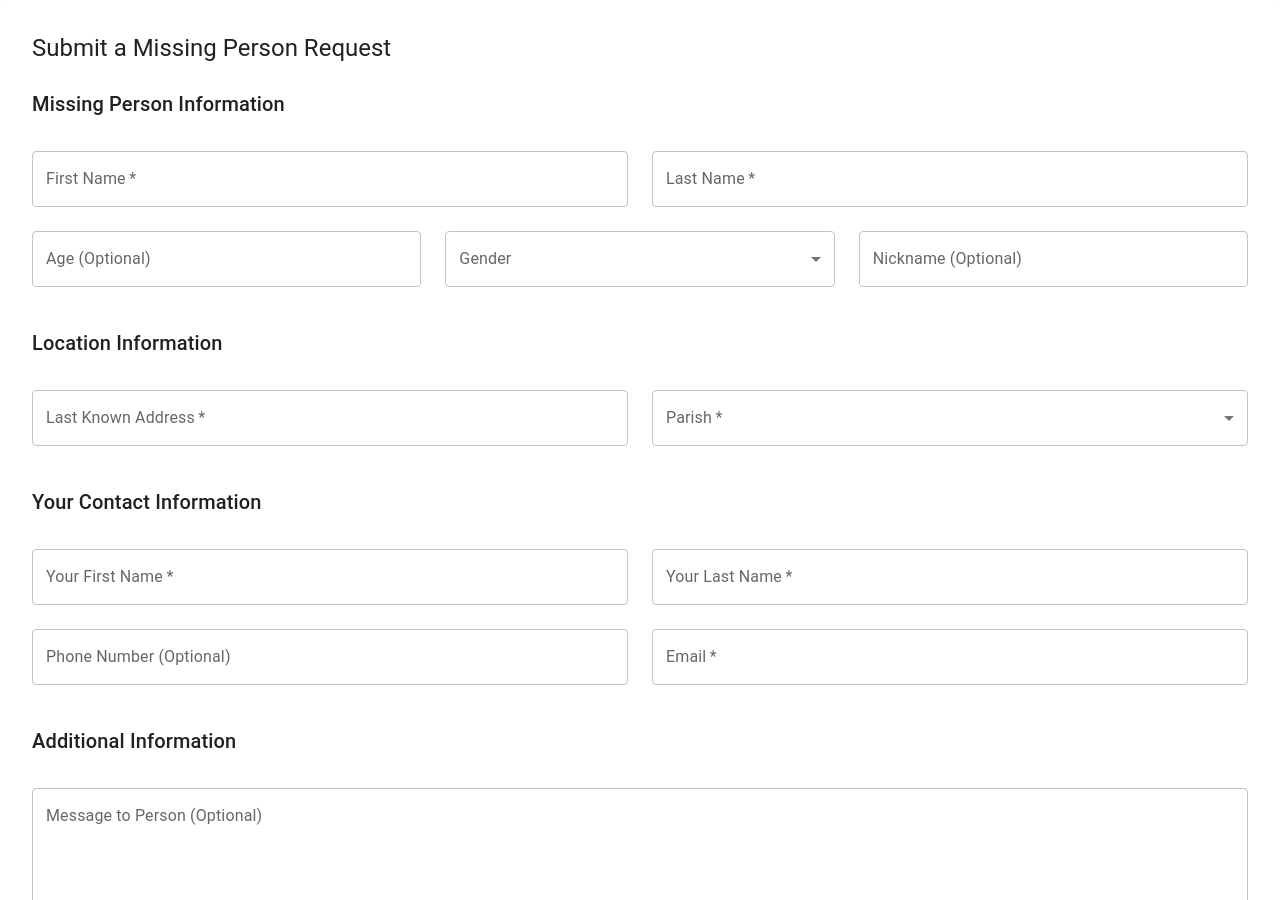
Scenario: RequestForm › allows selecting gender from dropdown
The width and height of the screenshot is (1280, 900).
Note: Click on gender dropdown
Click the dropdown named "gender" next to "Gender": coordinates (640, 259) x1=445 y1=231 x2=835 y2=287
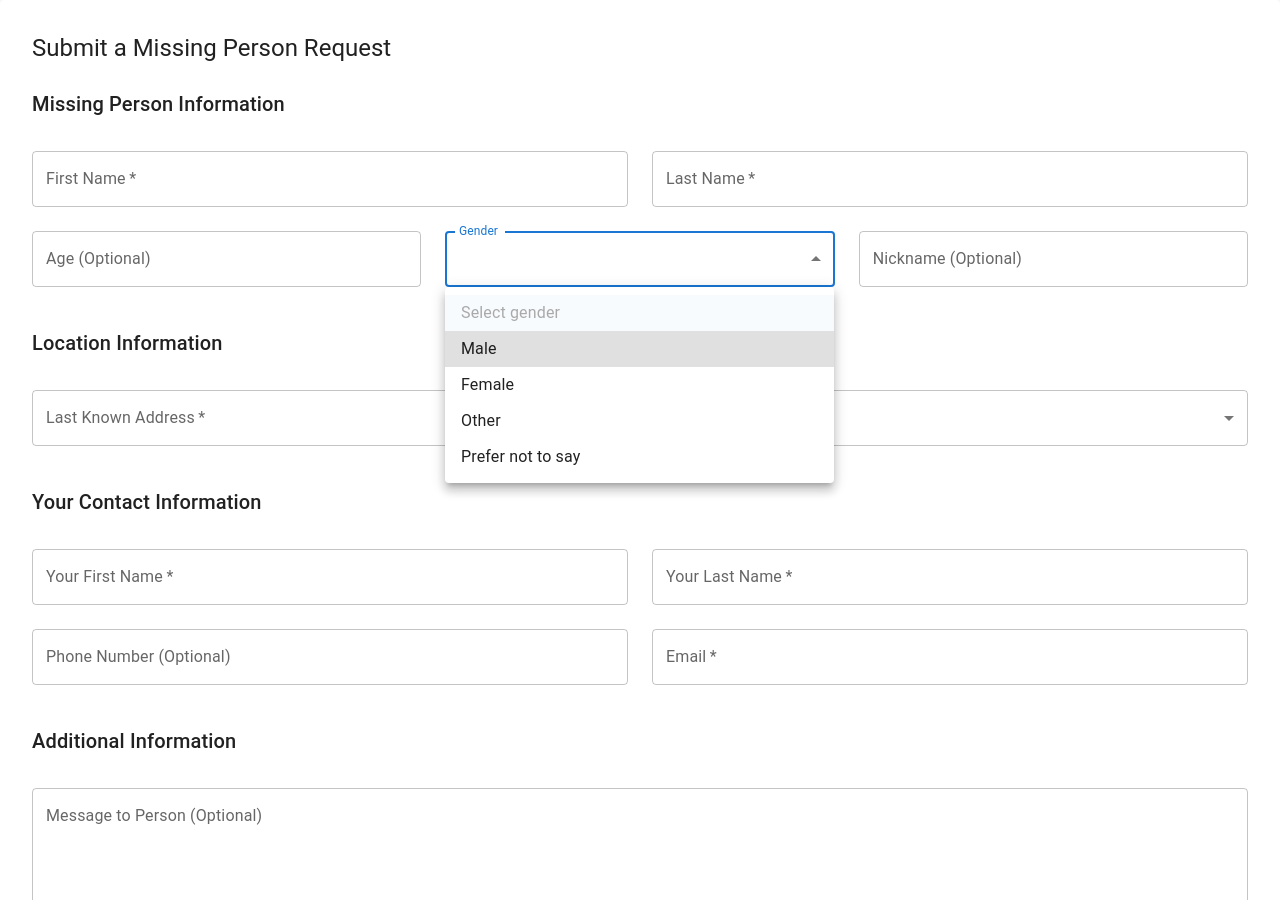
Now the option "Male" is shown
Now the option "Female" is shown, box x1=461 y1=375 x2=514 y2=394
Now the option "Other" is shown, box x1=461 y1=411 x2=501 y2=430
Note: Select a gender option
Click the option "Male": coordinates (479, 348) x1=445 y1=331 x2=834 y2=367
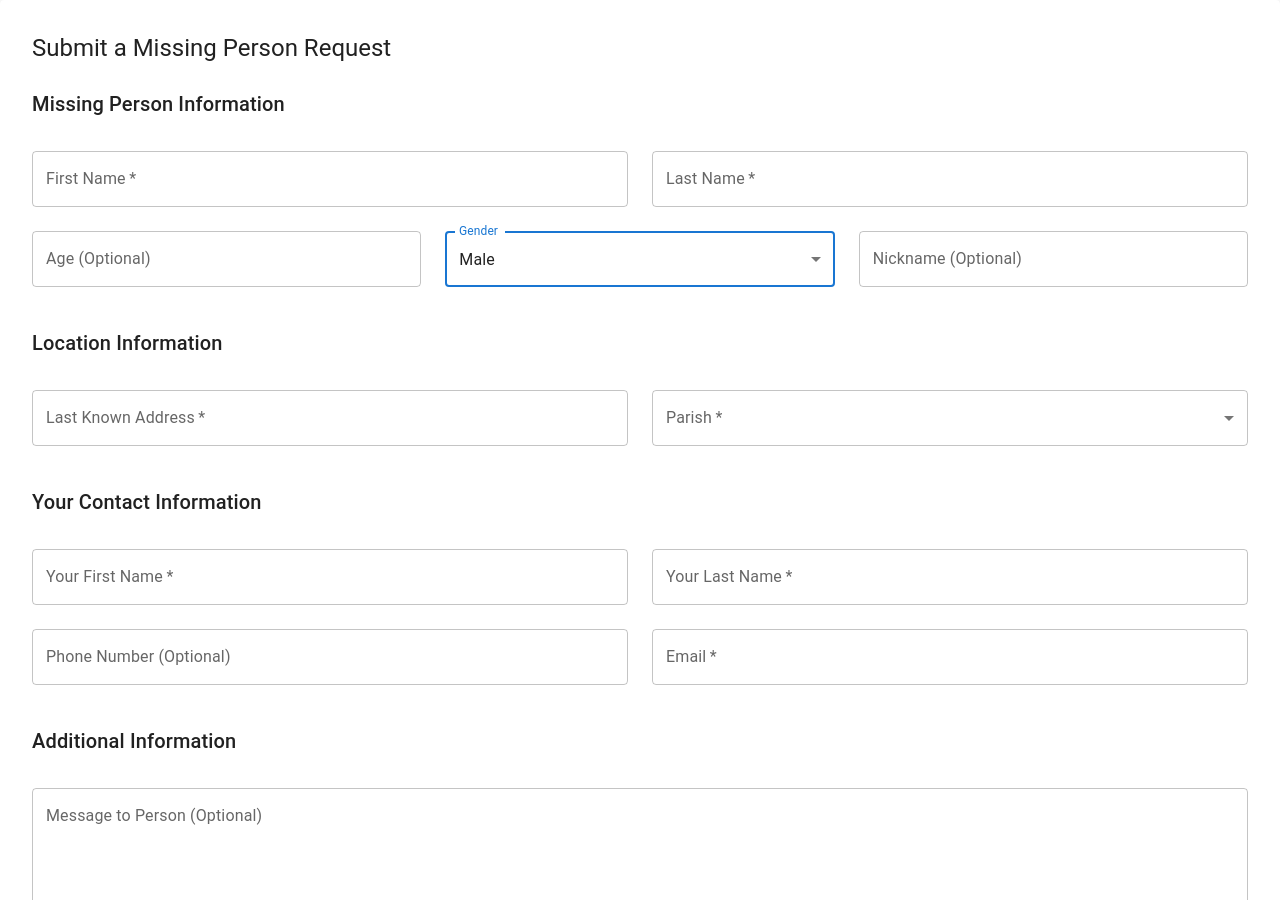
Now the dropdown named "gender" reads "Male", box x1=459 y1=250 x2=495 y2=268
